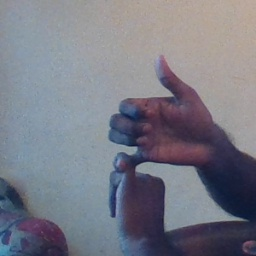S: (94, 49, 219, 225)
